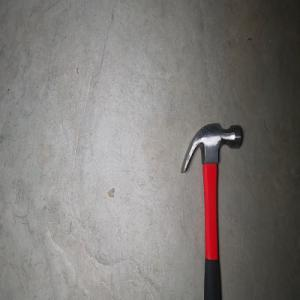Hammer: (179, 122, 242, 300)
